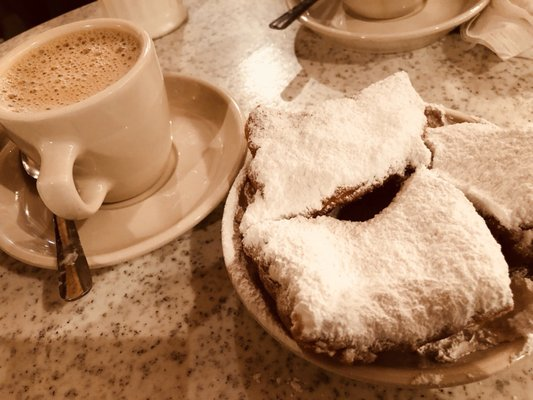pizza: (0, 16, 175, 244)
sandwich: (268, 0, 319, 30)
sushi: (295, 0, 494, 59)
